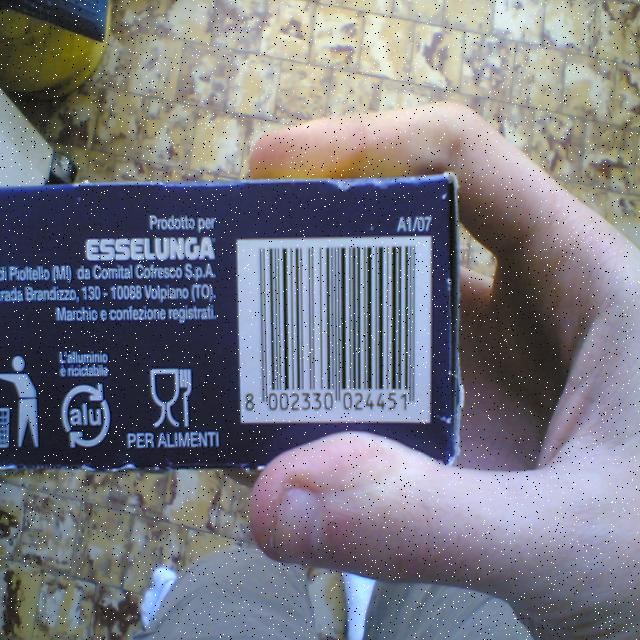barcode: (238, 237, 432, 423)
